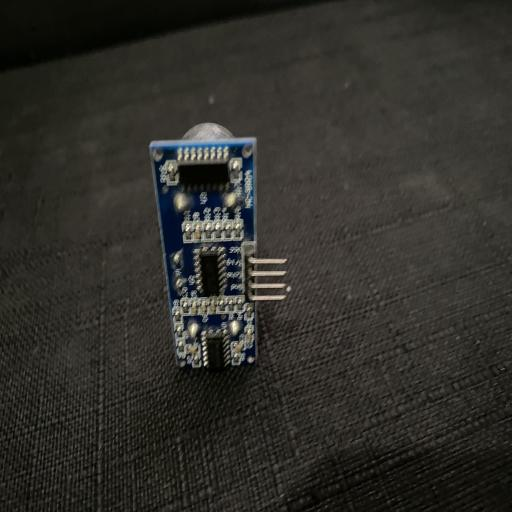Ultrasonic Sensor: (149, 121, 287, 373)
